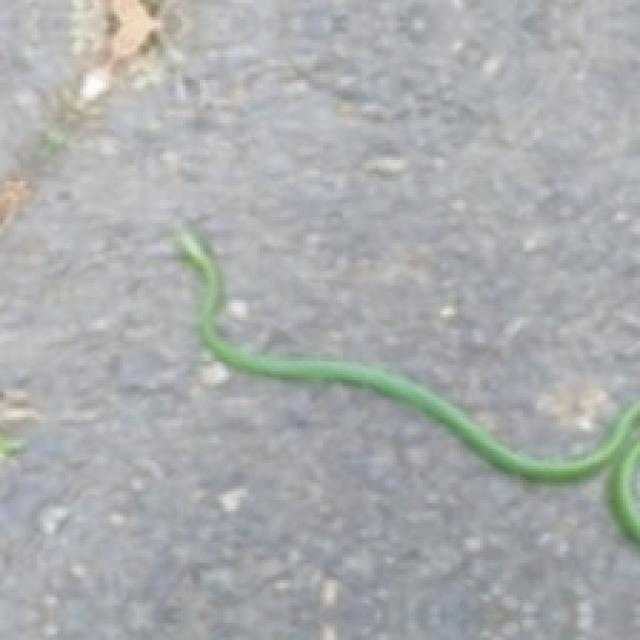red-tailed green ratsnake: (174, 226, 637, 540)
